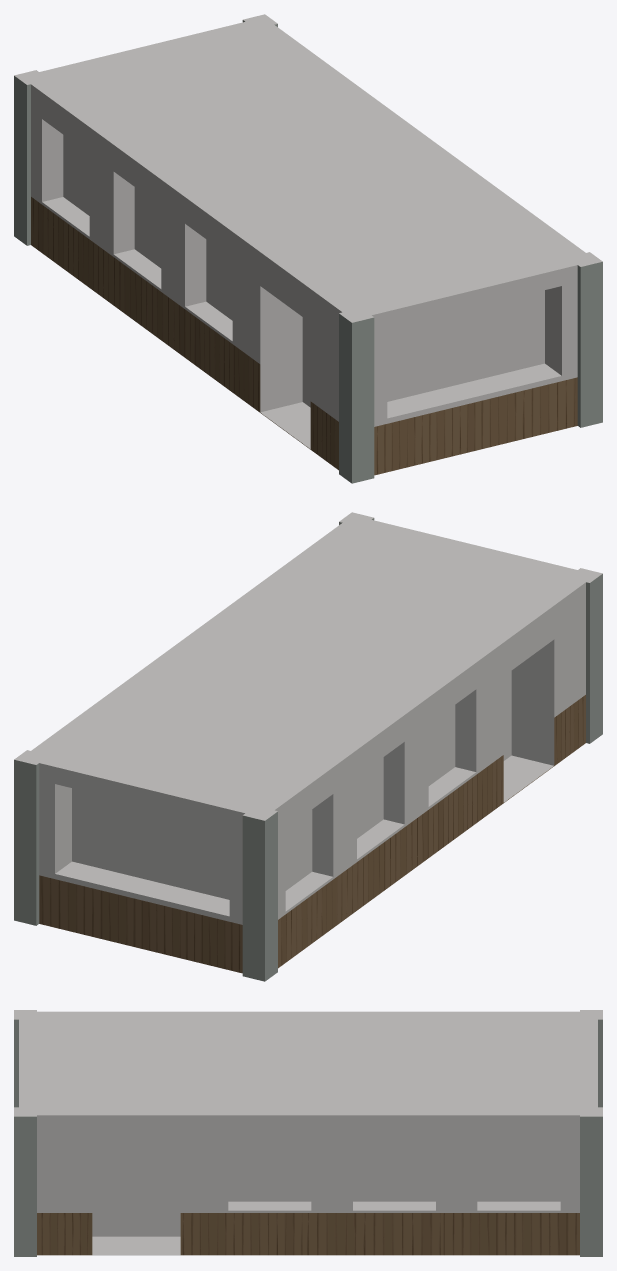
The model's file is SM_Env_Base_01.fbx.
3 renders of one model, top to bottom at view 1: azimuth 30°, elevation 25°; view 2: azimuth 150°, elevation 25°; view 3: azimuth 270°, elevation 25°, orthographic. The views are drawn at different scales.
Parts seen in each view (by area): view 1: SM_Env_Base_01; view 2: SM_Env_Base_01; view 3: SM_Env_Base_01.
Boxes of the visible parts, x1=… form: SM_Env_Base_01: x1=14, y1=14, x2=602, y2=483; SM_Env_Base_01: x1=14, y1=512, x2=602, y2=981; SM_Env_Base_01: x1=14, y1=1010, x2=602, y2=1256.
Bounding box in the file's own units: 584 × 358 × 1362.
Materials: 1 (1 with a texture image).
